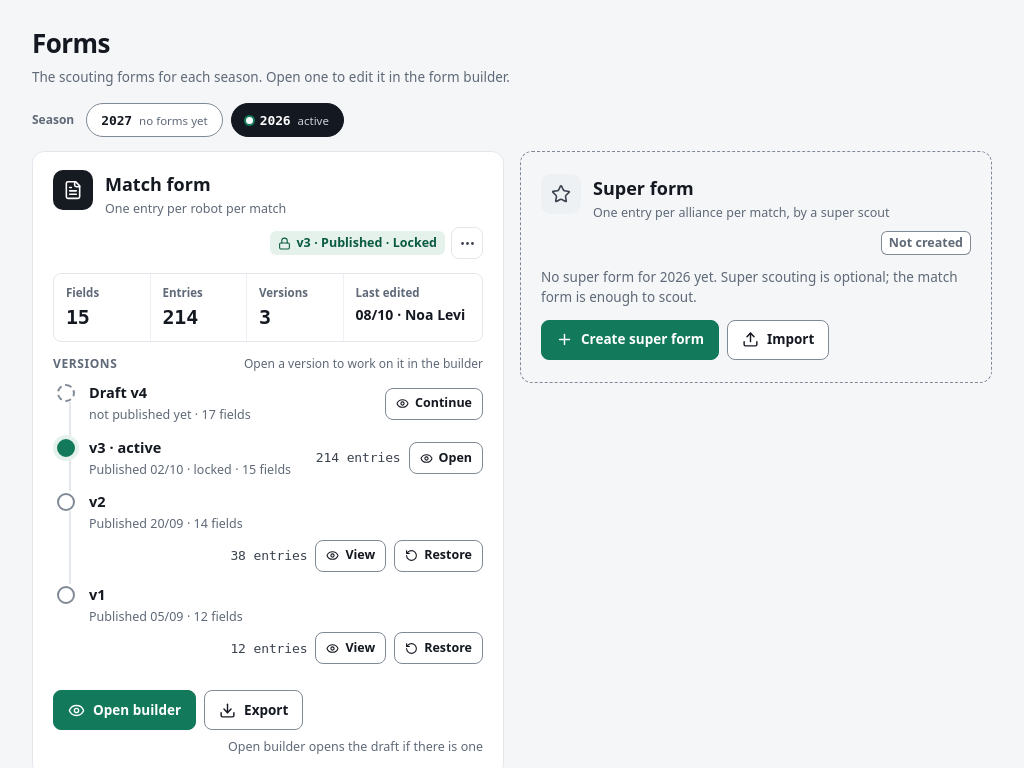
Test: Export (task 1.31) › opens from the Forms card's Export, held offline
This screenshot has width=1024, height=768.
Click the button "Export": {"x": 254, "y": 710} x1=204 y1=690 x2=303 y2=730
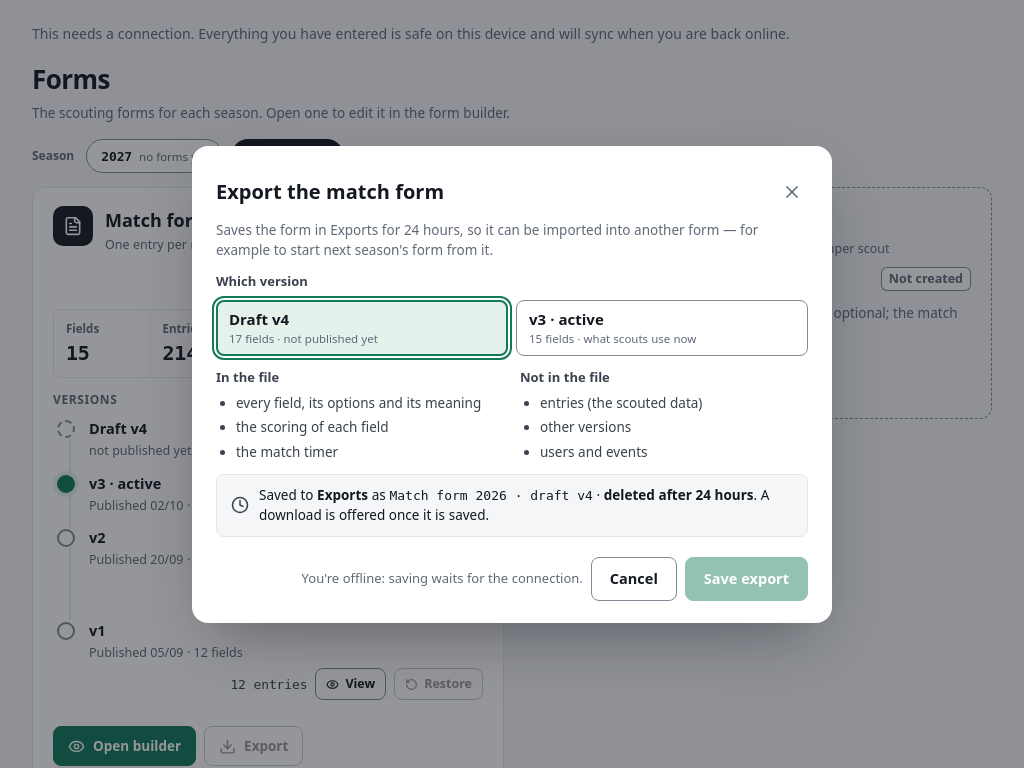
Check: the button "Save export" is disabled, box x1=685 y1=556 x2=808 y2=600
Check: the text "You're offline: saving waits for the connection." is shown, box x1=302 y1=569 x2=583 y2=588
